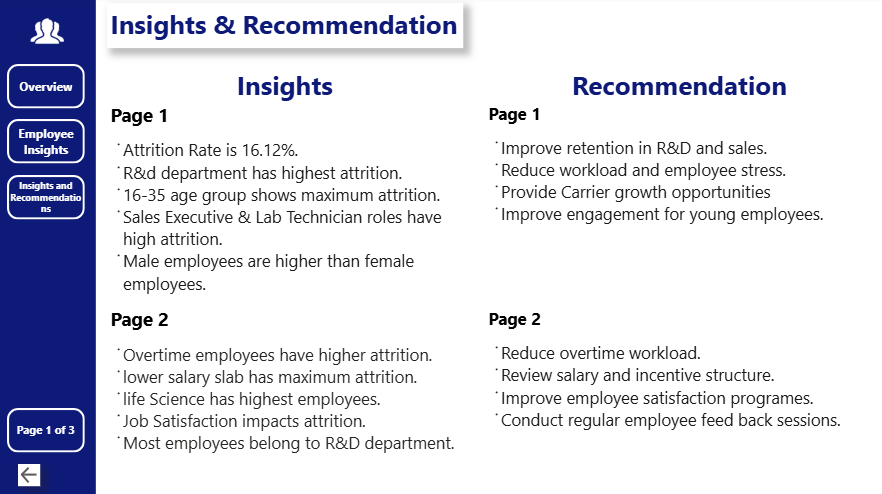

Layout of this report page (visuals, bound fields, positions):
{"tool":"powerbi","page":{"name":"Insights & Recommendations","canvas":[1280,720],"ordinal":2},"visuals":[{"type":"shape","box":[0,0,144,720],"z":0},{"type":"image","box":[42,26,64,48],"z":0,"group":"g2"},{"type":"textbox","box":[159.8,8.6,512.6,64.8],"z":1000},{"type":"shape","box":[16,96,112,64],"z":2000,"group":"g2"},{"type":"textbox","box":[160,96,512,624],"z":2000},{"type":"textbox","box":[704,96,560,624],"z":3000},{"type":"shape","box":[16,176,112,64],"z":3000,"group":"g2"},{"type":"group","id":"g1","title":"Group 3","box":[16,26,112,678],"z":4000},{"type":"shape","box":[16,256,112,64],"z":4000,"group":"g2"},{"type":"shape","box":[16,592,112,64],"z":5000,"group":"g2"},{"type":"group","id":"g2","title":"Group 2","box":[16,26,112,630],"z":9000,"group":"g1"},{"type":"actionButton","box":[32,672,32,32],"z":10000,"group":"g1"}]}

Visuals, with their boxes in screenshot pixels (x1, y1, x2, y2), scaled from the page's 1280x720 canvas onto the 882x494 screenshot:
shape: locate(0, 0, 99, 493)
image: locate(29, 18, 73, 51)
textbox: locate(110, 6, 463, 50)
shape: locate(11, 66, 88, 110)
textbox: locate(110, 66, 463, 493)
textbox: locate(485, 66, 871, 493)
shape: locate(11, 121, 88, 165)
"Group 3" group: locate(11, 18, 88, 483)
shape: locate(11, 176, 88, 220)
shape: locate(11, 406, 88, 450)
"Group 2" group: locate(11, 18, 88, 450)
actionButton: locate(22, 461, 44, 483)
